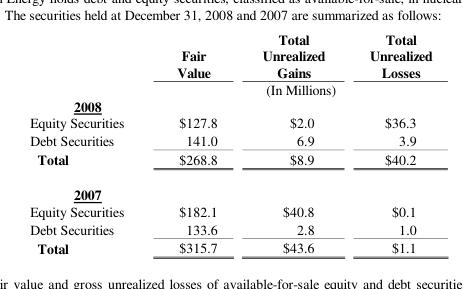table: (29, 29, 431, 257)
table column: (29, 29, 149, 257), (239, 29, 346, 257), (149, 29, 239, 257), (346, 29, 431, 257)
table column header: (29, 29, 431, 97)
table projected row header: (29, 176, 431, 202), (29, 97, 431, 114)
table row: (29, 29, 431, 80), (29, 149, 431, 176), (29, 176, 431, 202), (29, 237, 431, 257), (29, 131, 431, 149), (29, 219, 431, 237), (29, 80, 431, 97), (29, 97, 431, 114), (29, 114, 431, 131), (29, 202, 431, 219)
table spanning cell: (149, 80, 431, 97)
